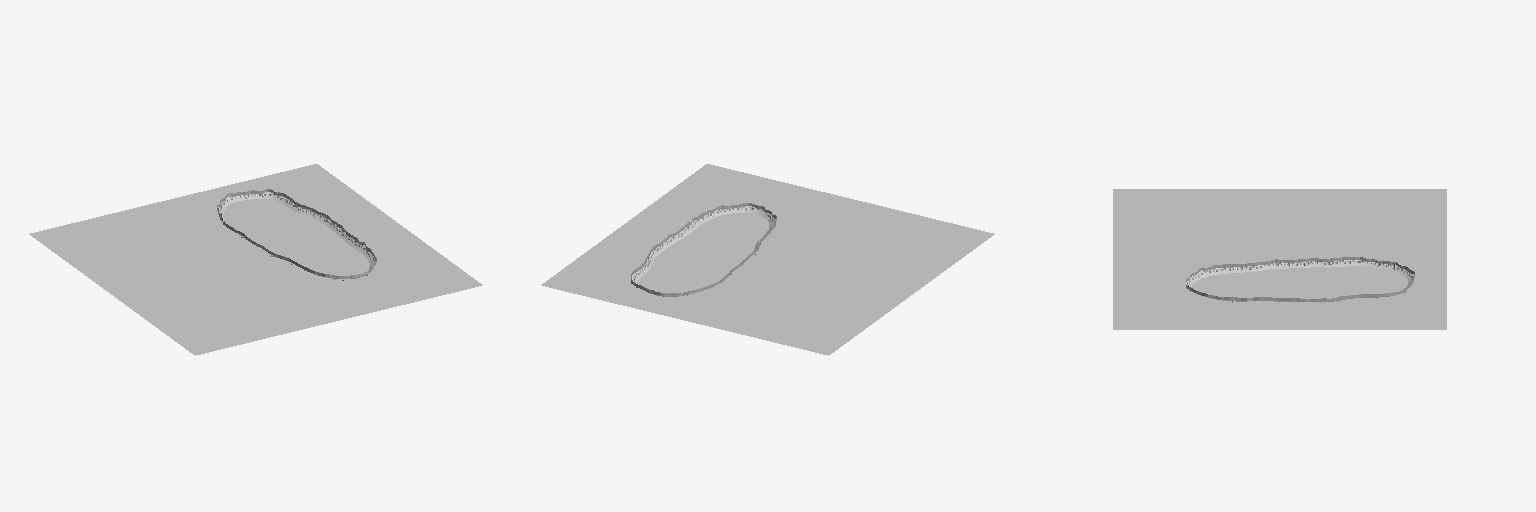
3 views of the same model, side by side, from view 1: azimuth 30°, elevation 25°; view 2: azimuth 150°, elevation 25°; view 3: azimuth 270°, elevation 25° (orthographic).
Visible parts, largest first — view 1: Plane; view 2: Plane; view 3: Plane.
Boxes of the visible parts, x1,y1,x2,y2 form: Plane: [29, 164, 482, 355]; Plane: [541, 164, 994, 355]; Plane: [1113, 189, 1446, 329].
Bounding box in the file's own units: 1400 × 34.52 × 1400.